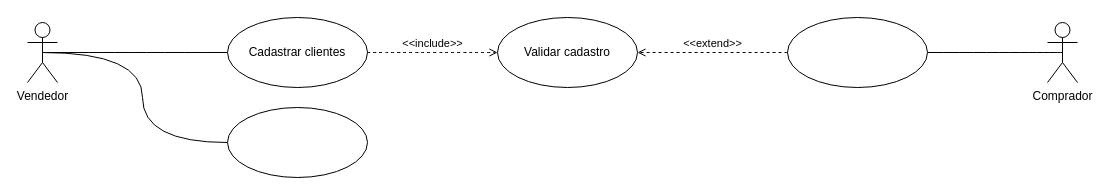
Image size: 1110x195. Some labels were removed from this diagram. Each missing label, with the centre of its shape:
"Comprar DVD" goes at (857,52).
"Vender DVD" goes at (297,142).
